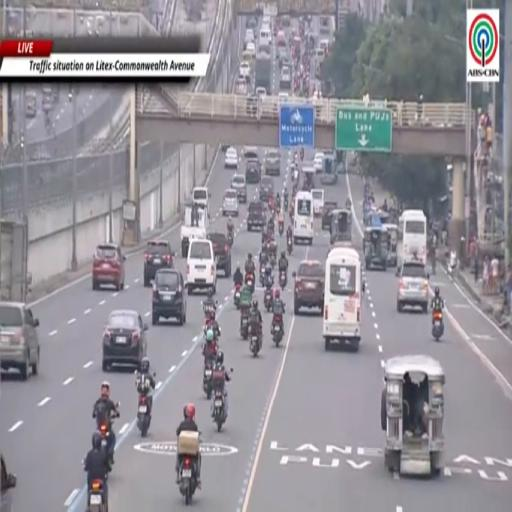bus: (323, 247, 364, 349), (397, 210, 427, 266), (293, 191, 314, 245)
car: (0, 301, 40, 380), (102, 310, 147, 372), (152, 269, 187, 325), (187, 239, 217, 295), (293, 261, 324, 314), (397, 263, 429, 313), (92, 244, 125, 291), (144, 239, 173, 286), (207, 232, 231, 277), (0, 453, 16, 511), (248, 201, 266, 231), (231, 174, 247, 203), (222, 189, 239, 216), (322, 201, 337, 230), (264, 150, 280, 175), (259, 176, 273, 201), (246, 159, 260, 184), (280, 65, 292, 90), (246, 95, 259, 117), (225, 147, 238, 169), (276, 47, 288, 68), (243, 146, 259, 161), (239, 62, 251, 82), (235, 76, 247, 95), (313, 153, 324, 172), (276, 30, 286, 47), (318, 39, 329, 54), (246, 42, 256, 57), (246, 16, 257, 29), (245, 29, 254, 44), (278, 92, 289, 103), (255, 87, 266, 98), (280, 15, 290, 27)
jeepney: (381, 356, 445, 475), (364, 226, 387, 269), (330, 210, 351, 244), (384, 223, 398, 266), (302, 166, 315, 190)
motorcycle: (97, 414, 118, 465), (212, 368, 227, 431), (179, 456, 197, 505), (87, 479, 107, 511), (137, 393, 151, 437), (212, 390, 226, 431), (203, 361, 212, 399), (272, 315, 283, 346), (432, 312, 443, 341), (250, 326, 260, 357), (201, 301, 217, 317), (240, 311, 248, 340), (264, 287, 273, 312), (245, 272, 254, 293), (234, 284, 241, 309), (279, 270, 286, 290), (270, 250, 276, 268), (259, 265, 264, 286), (287, 237, 293, 254), (227, 231, 233, 247), (279, 221, 284, 235), (284, 197, 288, 210)
truck: (0, 219, 31, 302), (181, 204, 209, 258), (255, 53, 272, 93)
